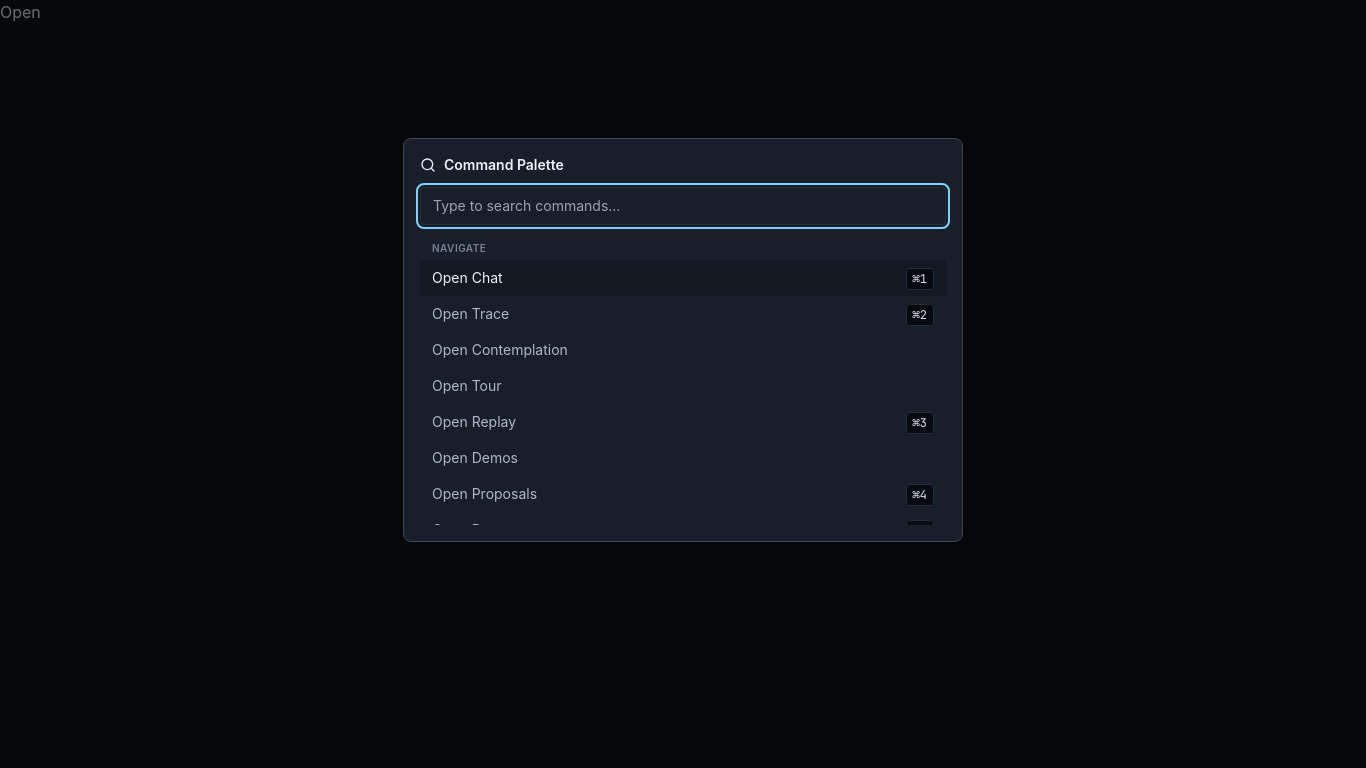
it: CommandPalette keyboard contract › fuzzy filter: typing 'eval' shows Open Evals
This screenshot has width=1366, height=768.
Type "eval" into the field labelled "search commands" at (683, 206), box left=420, top=187, right=946, bottom=225
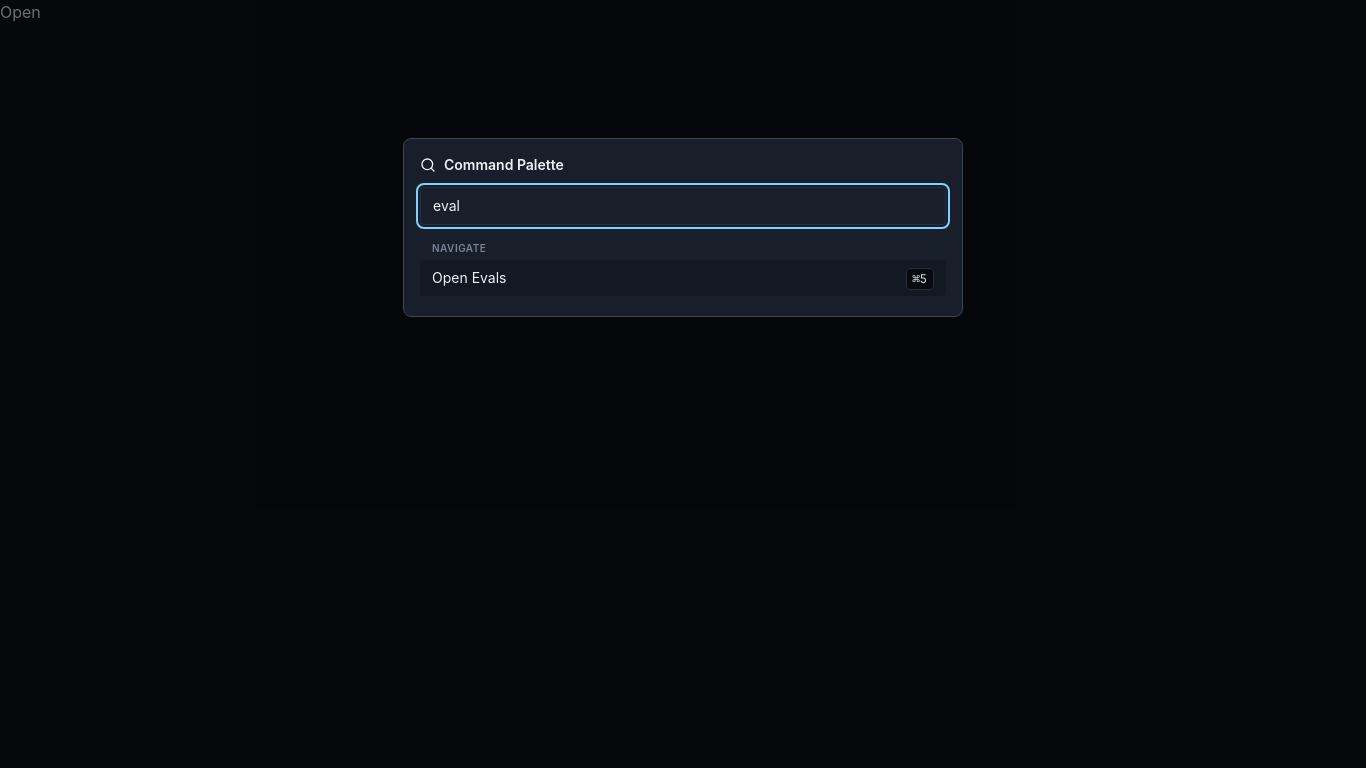
Result: the button "Open Evals ⌘5" is shown at left=420, top=260, right=946, bottom=296
Result: the button "Open Chat" is gone
